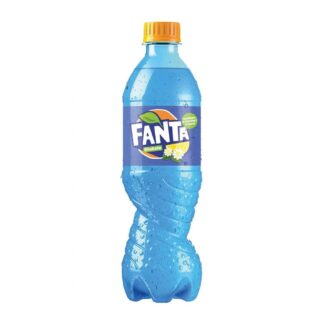fanta_bottle: (120, 20, 203, 304)
